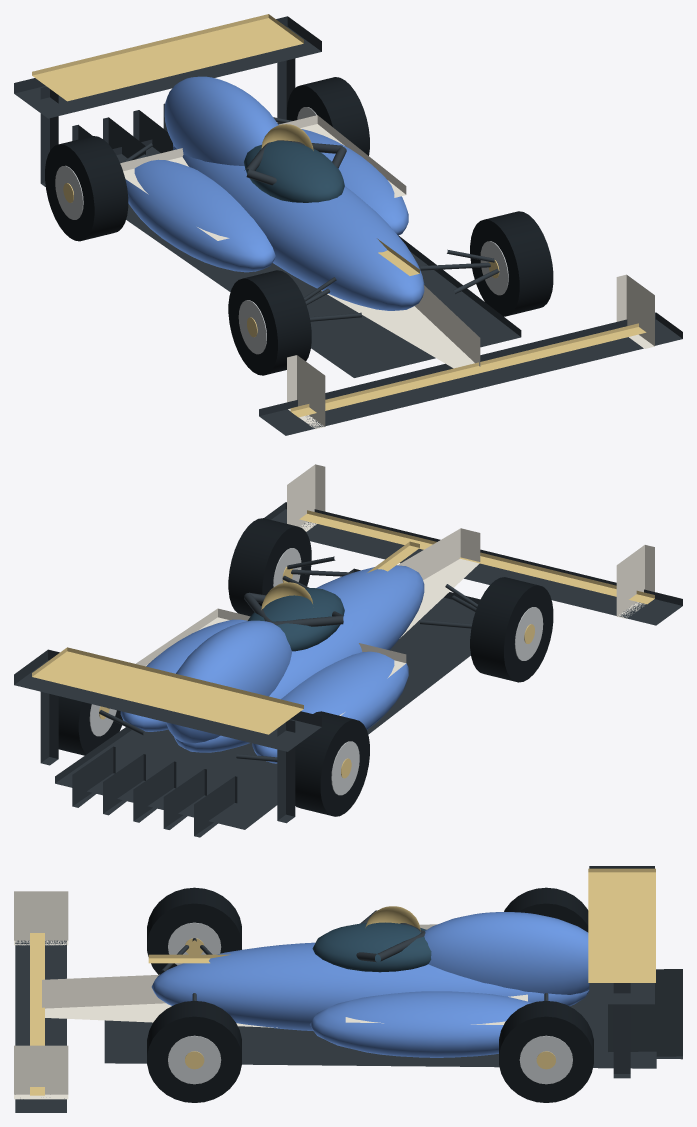
The model's file is agp01.glb.
3 renders of one model, top to bottom at view 1: azimuth 30°, elevation 25°; view 2: azimuth 150°, elevation 25°; view 3: azimuth 270°, elevation 25°, orthographic. The views are drawn at different scales.
Parts seen in each view (by area): view 1: AGP-01; view 2: AGP-01; view 3: AGP-01.
Part boxes in pixels (x1,y1,x2,y2): AGP-01: (14, 14, 682, 435); AGP-01: (14, 464, 682, 837); AGP-01: (14, 866, 682, 1112).
Bounding box in the file's own units: 4.7 × 1.54 × 7.15.
